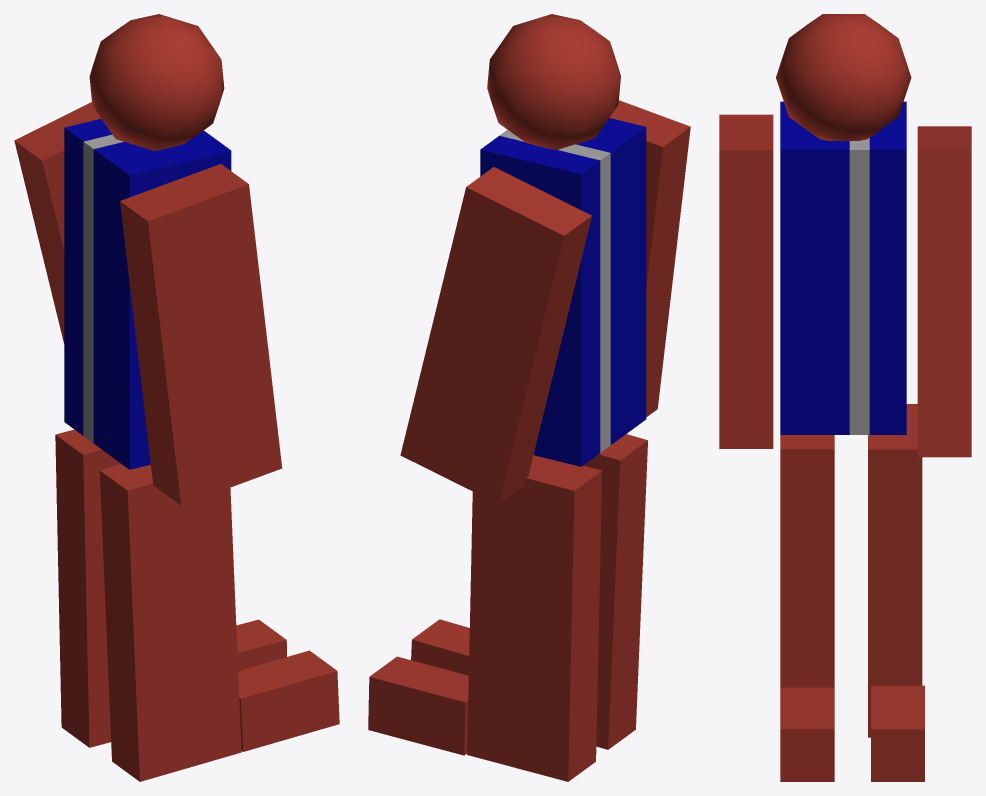
Rendered from player_000041.obj.
3 renders of one model, left to right at view 1: azimuth 30°, elevation 25°; view 2: azimuth 150°, elevation 25°; view 3: azimuth 270°, elevation 25°, orthographic. The views are drawn at different scales.
Parts seen in each view (by area): view 1: Cube.005, Cube.001, Cube, Cube.002, Icosphere, Cube.003, Cube.006, Cube.004; view 2: Cube.006, Cube.002, Cube, Icosphere, Cube.001, Cube.005, Cube.004, Cube.003; view 3: Cube, Cube.005, Cube.006, Cube.002, Cube.001, Icosphere, Cube.004, Cube.003.
Boxes of the visible parts, x1,y1,x2,y2 form: Cube.005: [120, 164, 282, 505]; Cube.001: [99, 464, 241, 781]; Cube: [64, 118, 231, 469]; Cube.002: [55, 429, 120, 747]; Icosphere: [89, 14, 224, 150]; Cube.003: [238, 650, 339, 751]; Cube.006: [14, 102, 100, 343]; Cube.004: [236, 619, 286, 670]; Cube.006: [400, 167, 591, 504]; Cube.002: [467, 455, 602, 781]; Cube: [480, 118, 646, 466]; Icosphere: [487, 14, 620, 150]; Cube.001: [583, 434, 647, 749]; Cube.005: [609, 100, 690, 416]; Cube.004: [368, 656, 468, 755]; Cube.003: [411, 619, 469, 675]; Cube: [780, 101, 906, 434]; Cube.005: [719, 114, 773, 448]; Cube.006: [917, 126, 971, 457]; Cube.002: [868, 404, 922, 737]; Cube.001: [780, 435, 834, 687]; Icosphere: [776, 14, 911, 140]; Cube.004: [871, 685, 924, 781]; Cube.003: [780, 687, 834, 781].
Size of the model in its own units: 0.9165 by 2.8 by 0.9137.
